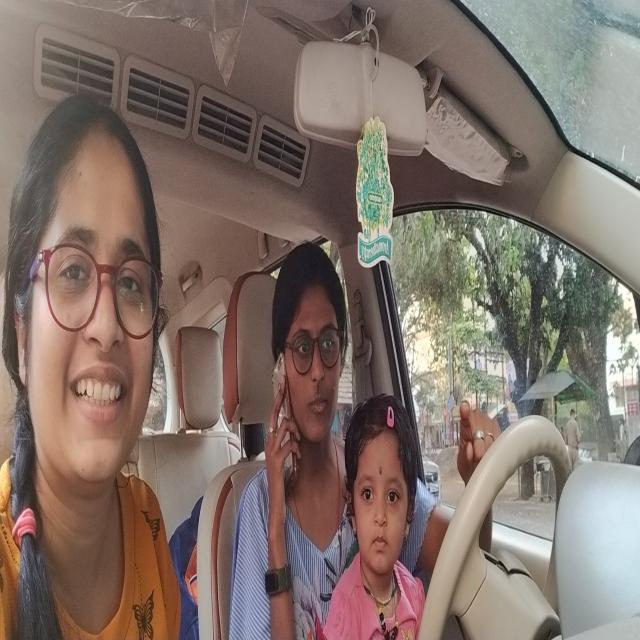child: (344, 394, 418, 593)
mobile: (272, 348, 298, 492)
person: (2, 81, 166, 502), (272, 238, 352, 452)
